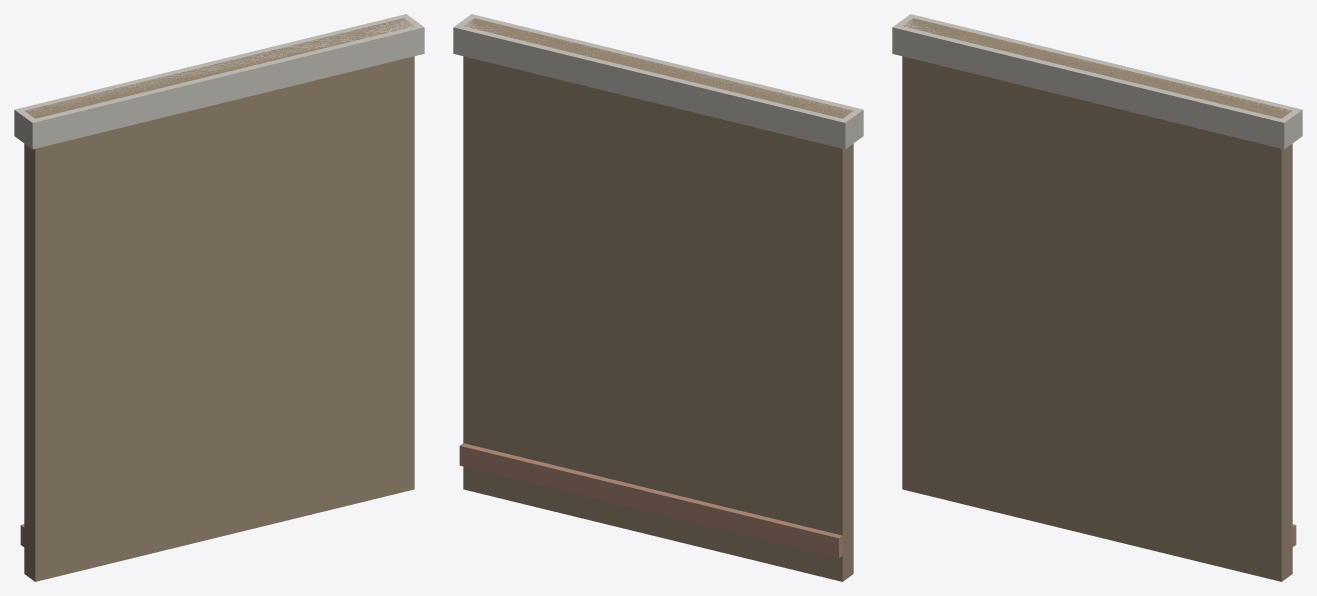
The model's file is iz3_build_defense_steel_wall_02.glb.
3 renders of one model, left to right at view 1: azimuth 30°, elevation 25°; view 2: azimuth 150°, elevation 25°; view 3: azimuth 330°, elevation 25°, orthographic.
Visible parts, largest first — view 1: wall, cornice; view 2: wall, cornice, sill; view 3: wall, cornice.
Boxes of the visible parts, x1,y1,x2,y2 form: wall: [24, 18, 414, 581]; cornice: [14, 14, 424, 149]; wall: [463, 18, 853, 581]; cornice: [453, 14, 863, 149]; sill: [459, 443, 842, 557]; wall: [902, 18, 1292, 581]; cornice: [892, 14, 1302, 149].
Size of the model in its own units: 2.48 by 2.8 by 0.2.
